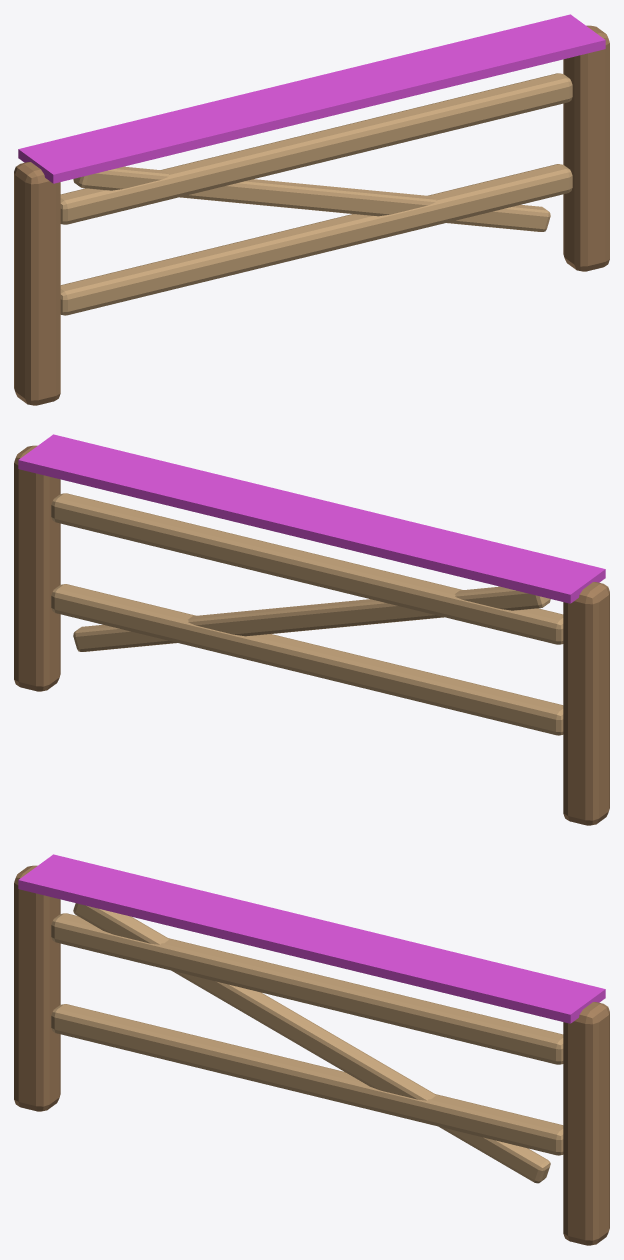
The model's file is rural_gate_lod1_v1.glb.
3 views of the same model, one above another, from view 1: azimuth 30°, elevation 25°; view 2: azimuth 150°, elevation 25°; view 3: azimuth 330°, elevation 25° (orthographic).
Parts seen in each view (by area): view 1: NAV_MASK_RURAL_GATE, LOD1_RURAL_GATE_TopRail, LOD1_RURAL_GATE_MidRail, LOD1_RURAL_GATE_Post, LOD1_RURAL_GATE_Post.001, LOD1_RURAL_GATE_Brace; view 2: NAV_MASK_RURAL_GATE, LOD1_RURAL_GATE_TopRail, LOD1_RURAL_GATE_MidRail, LOD1_RURAL_GATE_Post, LOD1_RURAL_GATE_Post.001, LOD1_RURAL_GATE_Brace; view 3: NAV_MASK_RURAL_GATE, LOD1_RURAL_GATE_TopRail, LOD1_RURAL_GATE_MidRail, LOD1_RURAL_GATE_Post.001, LOD1_RURAL_GATE_Brace, LOD1_RURAL_GATE_Post.
Boxes of the visible parts, bbox=[...] form: NAV_MASK_RURAL_GATE: bbox=[18, 14, 605, 183]; LOD1_RURAL_GATE_TopRail: bbox=[60, 73, 572, 224]; LOD1_RURAL_GATE_MidRail: bbox=[60, 164, 572, 315]; LOD1_RURAL_GATE_Post: bbox=[14, 162, 60, 405]; LOD1_RURAL_GATE_Post.001: bbox=[563, 25, 609, 271]; LOD1_RURAL_GATE_Brace: bbox=[73, 166, 550, 231]; NAV_MASK_RURAL_GATE: bbox=[18, 434, 605, 603]; LOD1_RURAL_GATE_TopRail: bbox=[51, 493, 563, 644]; LOD1_RURAL_GATE_MidRail: bbox=[51, 584, 563, 735]; LOD1_RURAL_GATE_Post: bbox=[563, 582, 609, 825]; LOD1_RURAL_GATE_Post.001: bbox=[14, 445, 60, 691]; LOD1_RURAL_GATE_Brace: bbox=[73, 586, 550, 651]; NAV_MASK_RURAL_GATE: bbox=[18, 854, 605, 1023]; LOD1_RURAL_GATE_TopRail: bbox=[51, 913, 563, 1064]; LOD1_RURAL_GATE_MidRail: bbox=[51, 1004, 563, 1155]; LOD1_RURAL_GATE_Post.001: bbox=[563, 1002, 609, 1245]; LOD1_RURAL_GATE_Brace: bbox=[73, 903, 550, 1183]; LOD1_RURAL_GATE_Post: bbox=[14, 865, 60, 1111].
Size of what is drawn, in the model's own units: 4.04 by 1.57 by 0.42.
